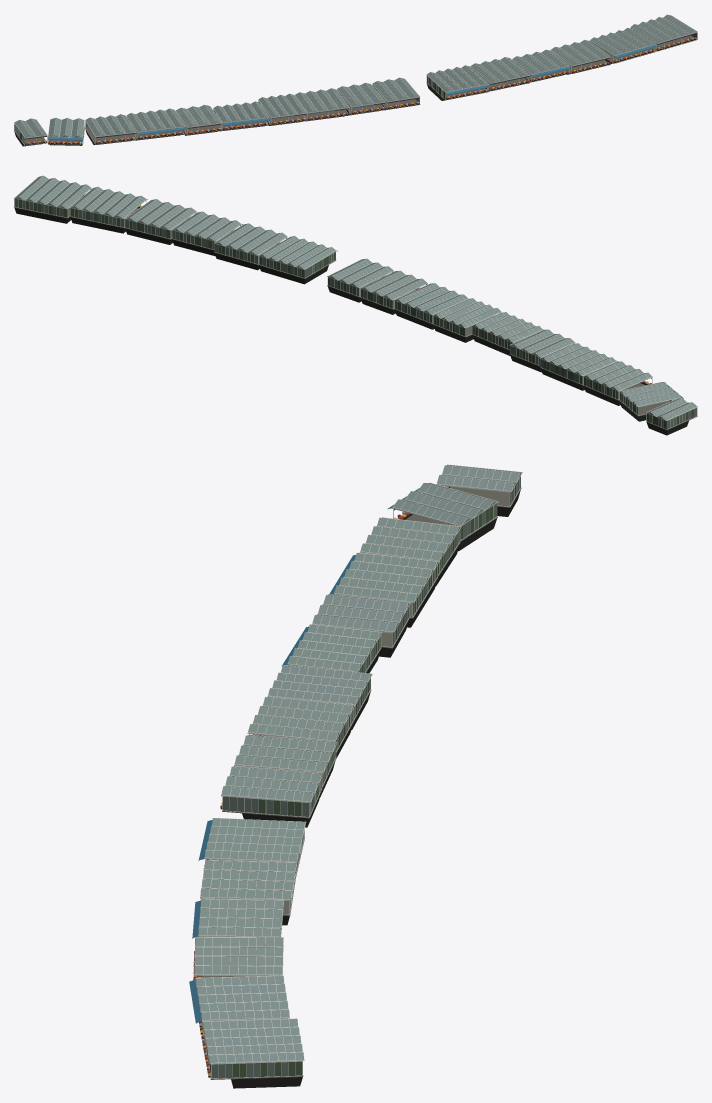
File: bloemenmarkt-stalls.glb
3 renders of one model, top to bottom at view 1: azimuth 30°, elevation 25°; view 2: azimuth 150°, elevation 25°; view 3: azimuth 270°, elevation 25°, orthographic. The views are drawn at different scales.
Visible parts, largest first — view 1: bloemenmarkt-stalls; view 2: bloemenmarkt-stalls; view 3: bloemenmarkt-stalls.
Boxes of the visible parts, <box> form: bloemenmarkt-stalls: <box>14,14,697,146</box>; bloemenmarkt-stalls: <box>14,175,697,435</box>; bloemenmarkt-stalls: <box>189,464,522,1088</box>.
Bounding box in the file's own units: 228 × 5.51 × 53.62.
